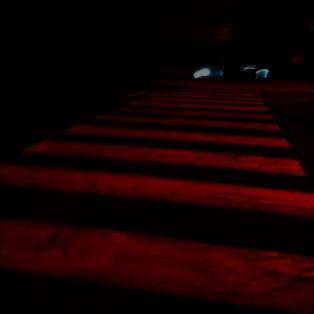Paso de Cebra: (46, 112, 301, 152)
